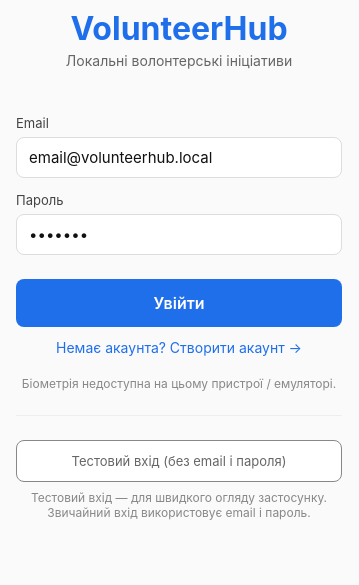
Phase 6 — LoginScreen › LOG2: rejects bad credentials with the localized error
The image size is (359, 585).
Step 1. Type "demo@volunteerhub.local" into the field with test id "login-email" → (179, 158), box [16,137,342,178]
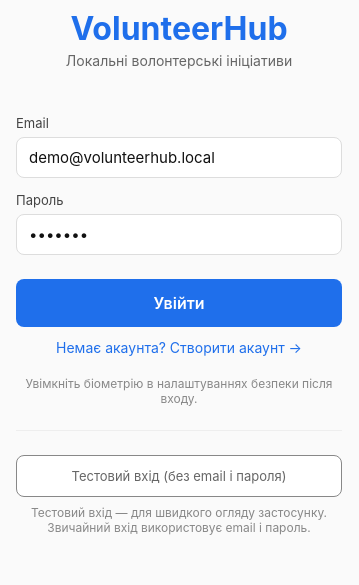
Step 2. Type "wrong" into the password field with test id "login-password" → (179, 234), box [16,214,342,255]
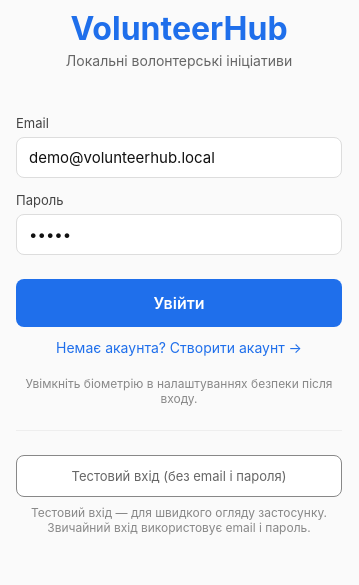
Step 3. Click the element with test id "login-submit" → (179, 303), box [16,279,342,327]
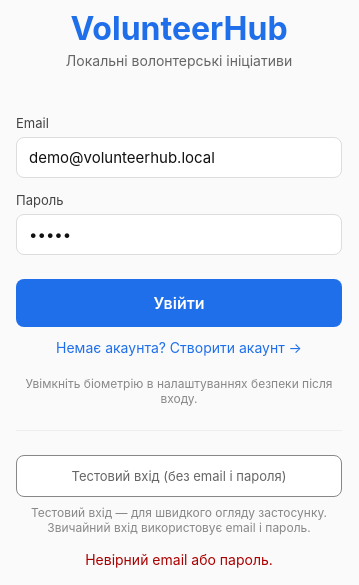
Result: the text with test id "login-error" shows "Невірний email або пароль" at [85,551,273,568]
